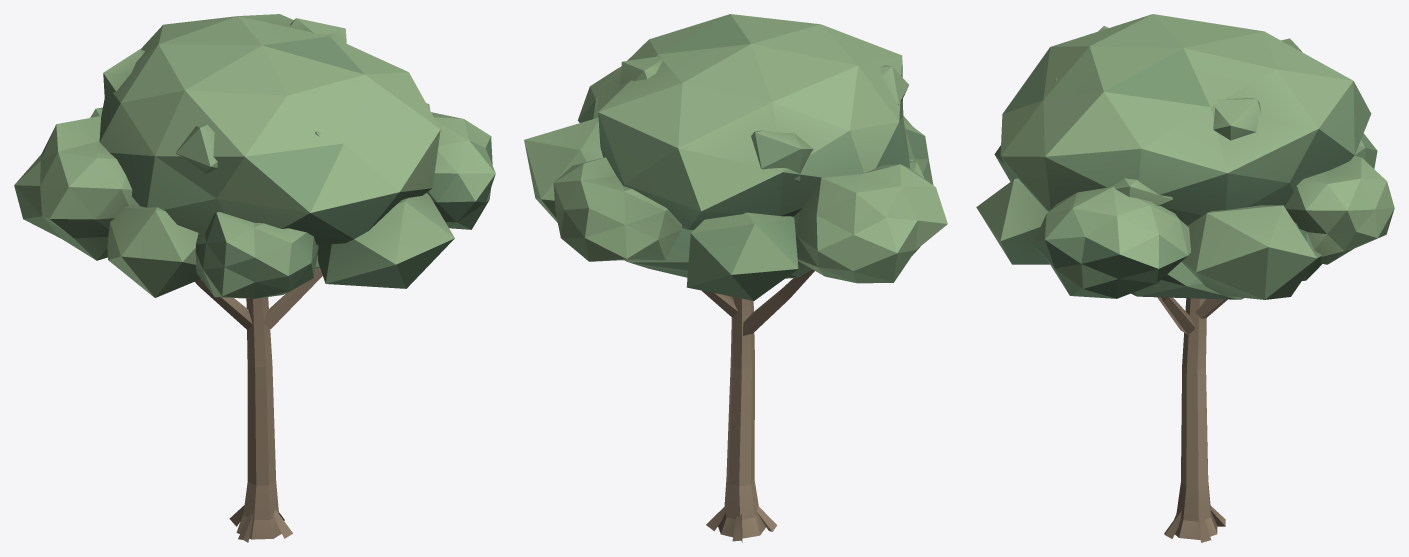
The model's file is tree.glb.
3 renders of one model, left to right at view 1: azimuth 30°, elevation 25°; view 2: azimuth 150°, elevation 25°; view 3: azimuth 270°, elevation 25°, orthographic.
Bounding box in the file's own units: 7.29 × 8.51 × 6.69.
